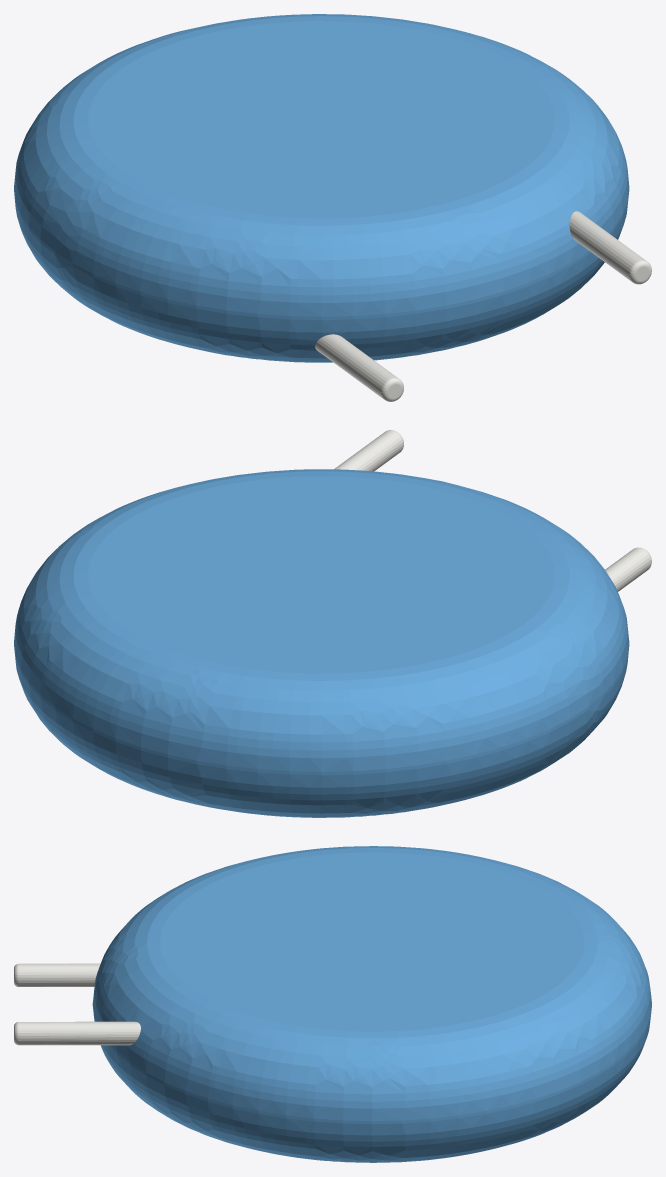
File: RV_Disc_D21.5mm_W5.3mm_P10mm.glb
3 views of the same model, one above another, from view 1: azimuth 30°, elevation 25°; view 2: azimuth 150°, elevation 25°; view 3: azimuth 270°, elevation 25° (orthographic). The views are drawn at different scales.
Parts seen in each view (by area): view 1: Shape_IndexedFaceSet.001, Shape_IndexedFaceSet.003, Shape_IndexedFaceSet.002, Shape_IndexedFaceSet, Shape_IndexedFaceSet.006, Shape_IndexedFaceSet.004; view 2: Shape_IndexedFaceSet.001, Shape_IndexedFaceSet.003, Shape_IndexedFaceSet.002, Shape_IndexedFaceSet, Shape_IndexedFaceSet.004, Shape_IndexedFaceSet.006; view 3: Shape_IndexedFaceSet.001, Shape_IndexedFaceSet.003, Shape_IndexedFaceSet.002, Shape_IndexedFaceSet.004, Shape_IndexedFaceSet, Shape_IndexedFaceSet.006.
Part boxes in pixels (x1,y1,x2,y2): Shape_IndexedFaceSet.001: (14,14,629,316); Shape_IndexedFaceSet.003: (88,21,554,218); Shape_IndexedFaceSet.002: (14,194,628,362); Shape_IndexedFaceSet: (14,188,629,319); Shape_IndexedFaceSet.006: (315,334,397,398); Shape_IndexedFaceSet.004: (569,211,645,281); Shape_IndexedFaceSet.001: (14,469,629,771); Shape_IndexedFaceSet.003: (88,476,554,673); Shape_IndexedFaceSet.002: (14,646,629,817); Shape_IndexedFaceSet: (14,643,629,775); Shape_IndexedFaceSet.004: (334,430,403,471); Shape_IndexedFaceSet.006: (605,548,651,591); Shape_IndexedFaceSet.001: (93,846,651,1121); Shape_IndexedFaceSet.003: (160,852,584,1031); Shape_IndexedFaceSet.002: (93,1010,651,1162); Shape_IndexedFaceSet.004: (18,1021,140,1045); Shape_IndexedFaceSet: (92,1003,651,1124); Shape_IndexedFaceSet.006: (18,963,100,986).
Bounding box in the file's own units: 8.47 × 2.09 × 9.66.
